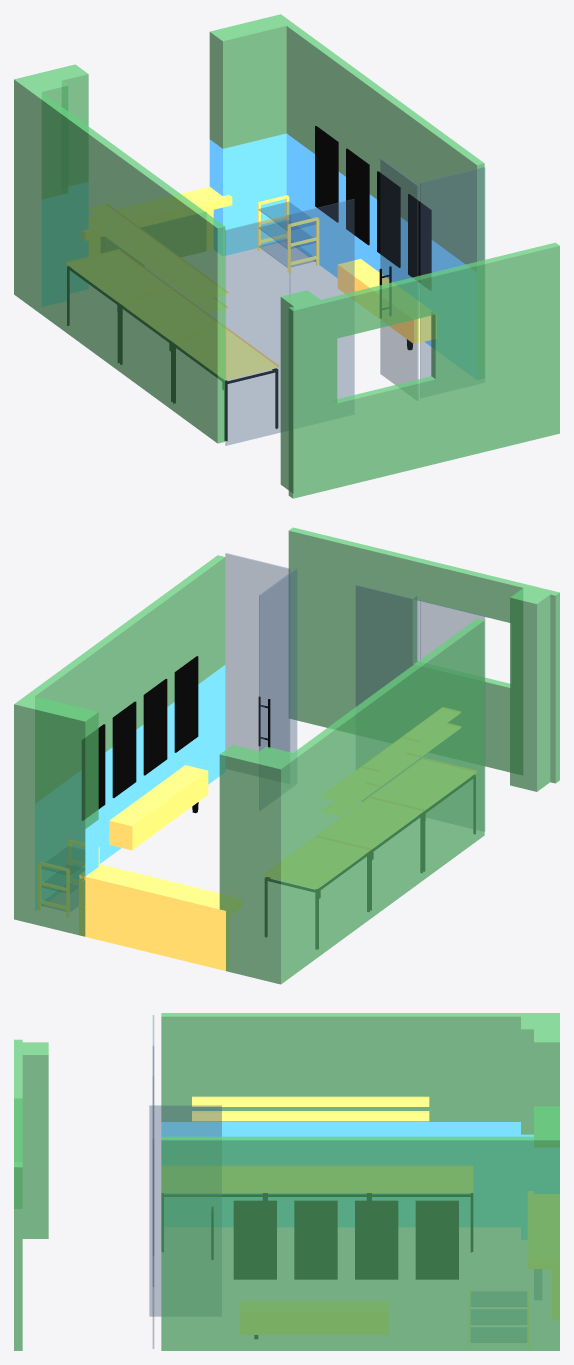
The model's file is iuStudio.gltf.
3 views of the same model, one above another, from view 1: azimuth 30°, elevation 25°; view 2: azimuth 150°, elevation 25°; view 3: azimuth 270°, elevation 25° (orthographic). The views are drawn at different scales.
Parts seen in each view (by area): view 1: Walls, Curve.007, Table top, poster, Curve.000, Curve.008, Glass door, Window, Bench, Table top.002, Shelves, Table top.001 (+2 smaller); view 2: Walls, Curve.008, Window, Table top, poster, Glass door, Curve.000, Bench, Table top.002, Curve.007, Table top.001, Table frame (+1 smaller); view 3: Walls, poster, Table top, Bench, Glass door, Window, Table top.001, Table top.002, Table frame.
Part boxes in pixels (x1,y1,x2,y2): Walls: (14, 14, 559, 498); Curve.007: (225, 215, 289, 445); Table top: (66, 249, 278, 380); poster: (315, 126, 431, 289); Curve.000: (290, 199, 354, 398); Curve.008: (420, 167, 484, 378); Glass door: (380, 158, 418, 384); Window: (82, 186, 232, 266); Bench: (337, 259, 436, 343); Table top.002: (89, 204, 228, 297); Shelves: (259, 202, 315, 266); Table top.001: (88, 220, 227, 312); Walls: (14, 527, 559, 984); Curve.008: (225, 553, 289, 751); Window: (79, 864, 241, 970); Table top: (264, 758, 476, 888); poster: (82, 656, 198, 820); Glass door: (259, 568, 296, 752); Curve.000: (356, 585, 420, 706); Bench: (109, 765, 208, 850); Table top.002: (321, 707, 460, 801); Curve.007: (420, 600, 484, 831); Table top.001: (322, 723, 460, 815); Table frame: (265, 775, 475, 949); Walls: (14, 1013, 559, 1350); poster: (234, 1201, 458, 1279); Table top: (162, 1166, 472, 1192); Bench: (240, 1301, 388, 1334); Glass door: (149, 1105, 221, 1316); Window: (528, 1191, 559, 1319); Table top.001: (192, 1111, 429, 1121); Table top.002: (192, 1096, 429, 1106); Table frame: (162, 1193, 472, 1251).
Bounding box in the file's own units: 4.31 × 3.32 × 7.8.
